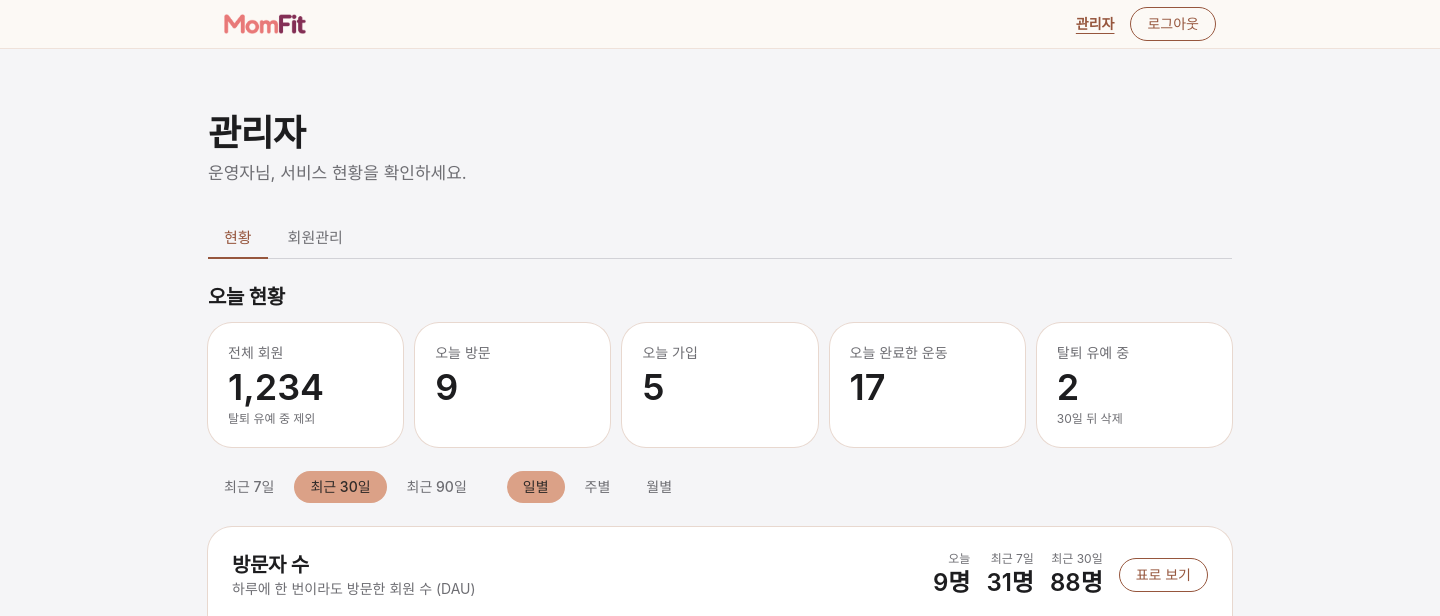
Test case: AdminDashboard › 묶는 단위를 바꾸면 방문자 설명도 WAU·MAU로 바뀐다
Expected: the heading "관리자" is shown, left=208, top=111, right=305, bottom=155
Click the button "주별": (598, 487) left=569, top=471, right=626, bottom=503
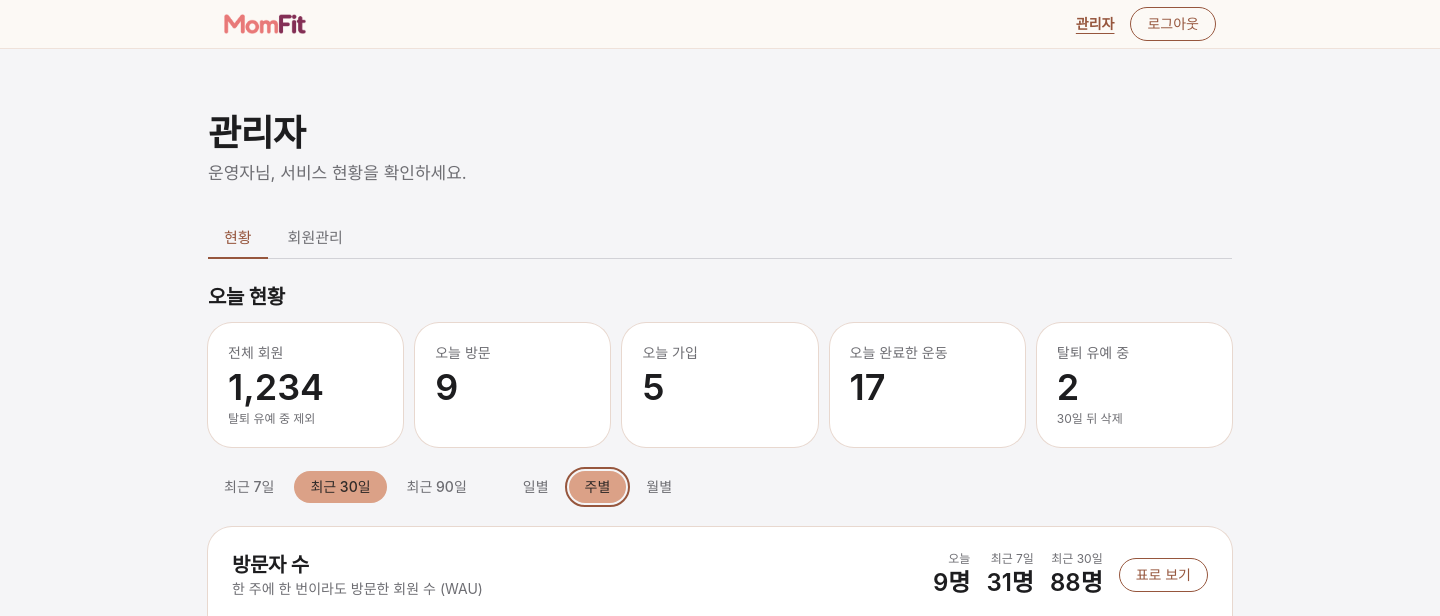
Expected: the text "한 주에 한 번이라도 방문한 회원 수 (WAU)" is shown, left=232, top=579, right=483, bottom=599
Click the button "월별": (659, 487) left=630, top=471, right=688, bottom=503
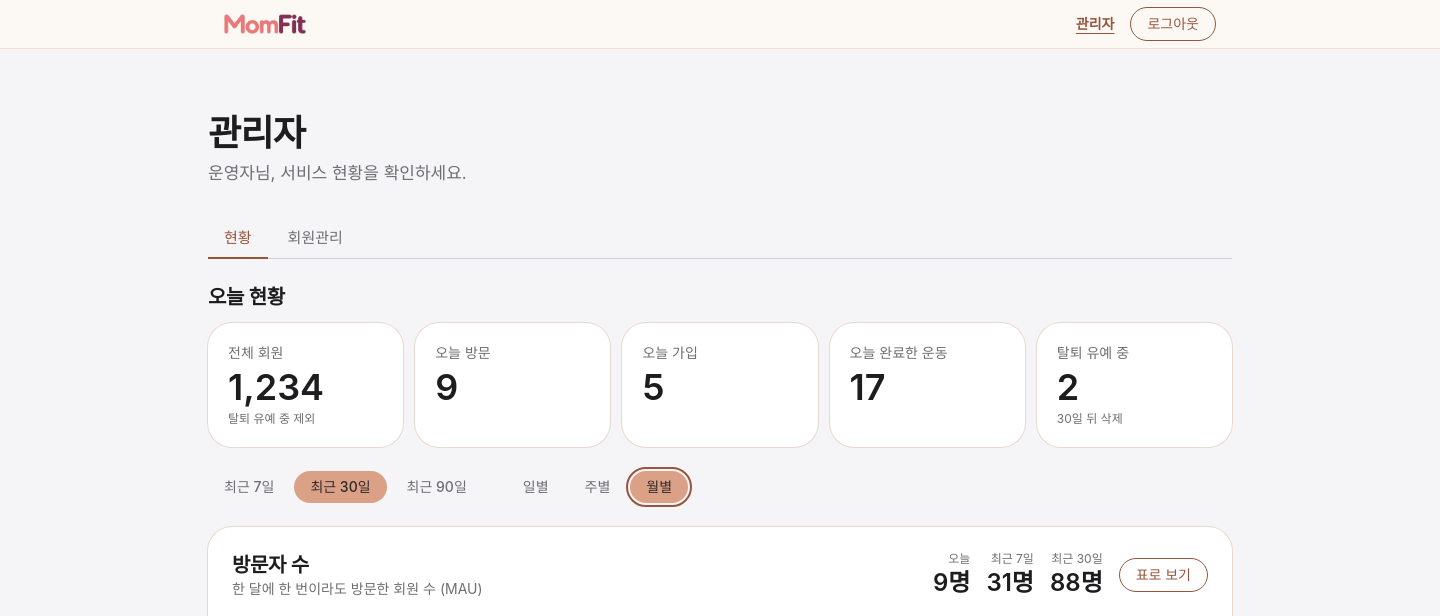
Expected: the text "한 달에 한 번이라도 방문한 회원 수 (MAU)" is shown, left=232, top=579, right=482, bottom=599
